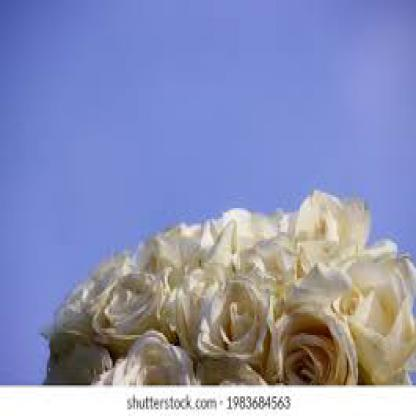Rose-Mawar: (37, 185, 416, 388)
